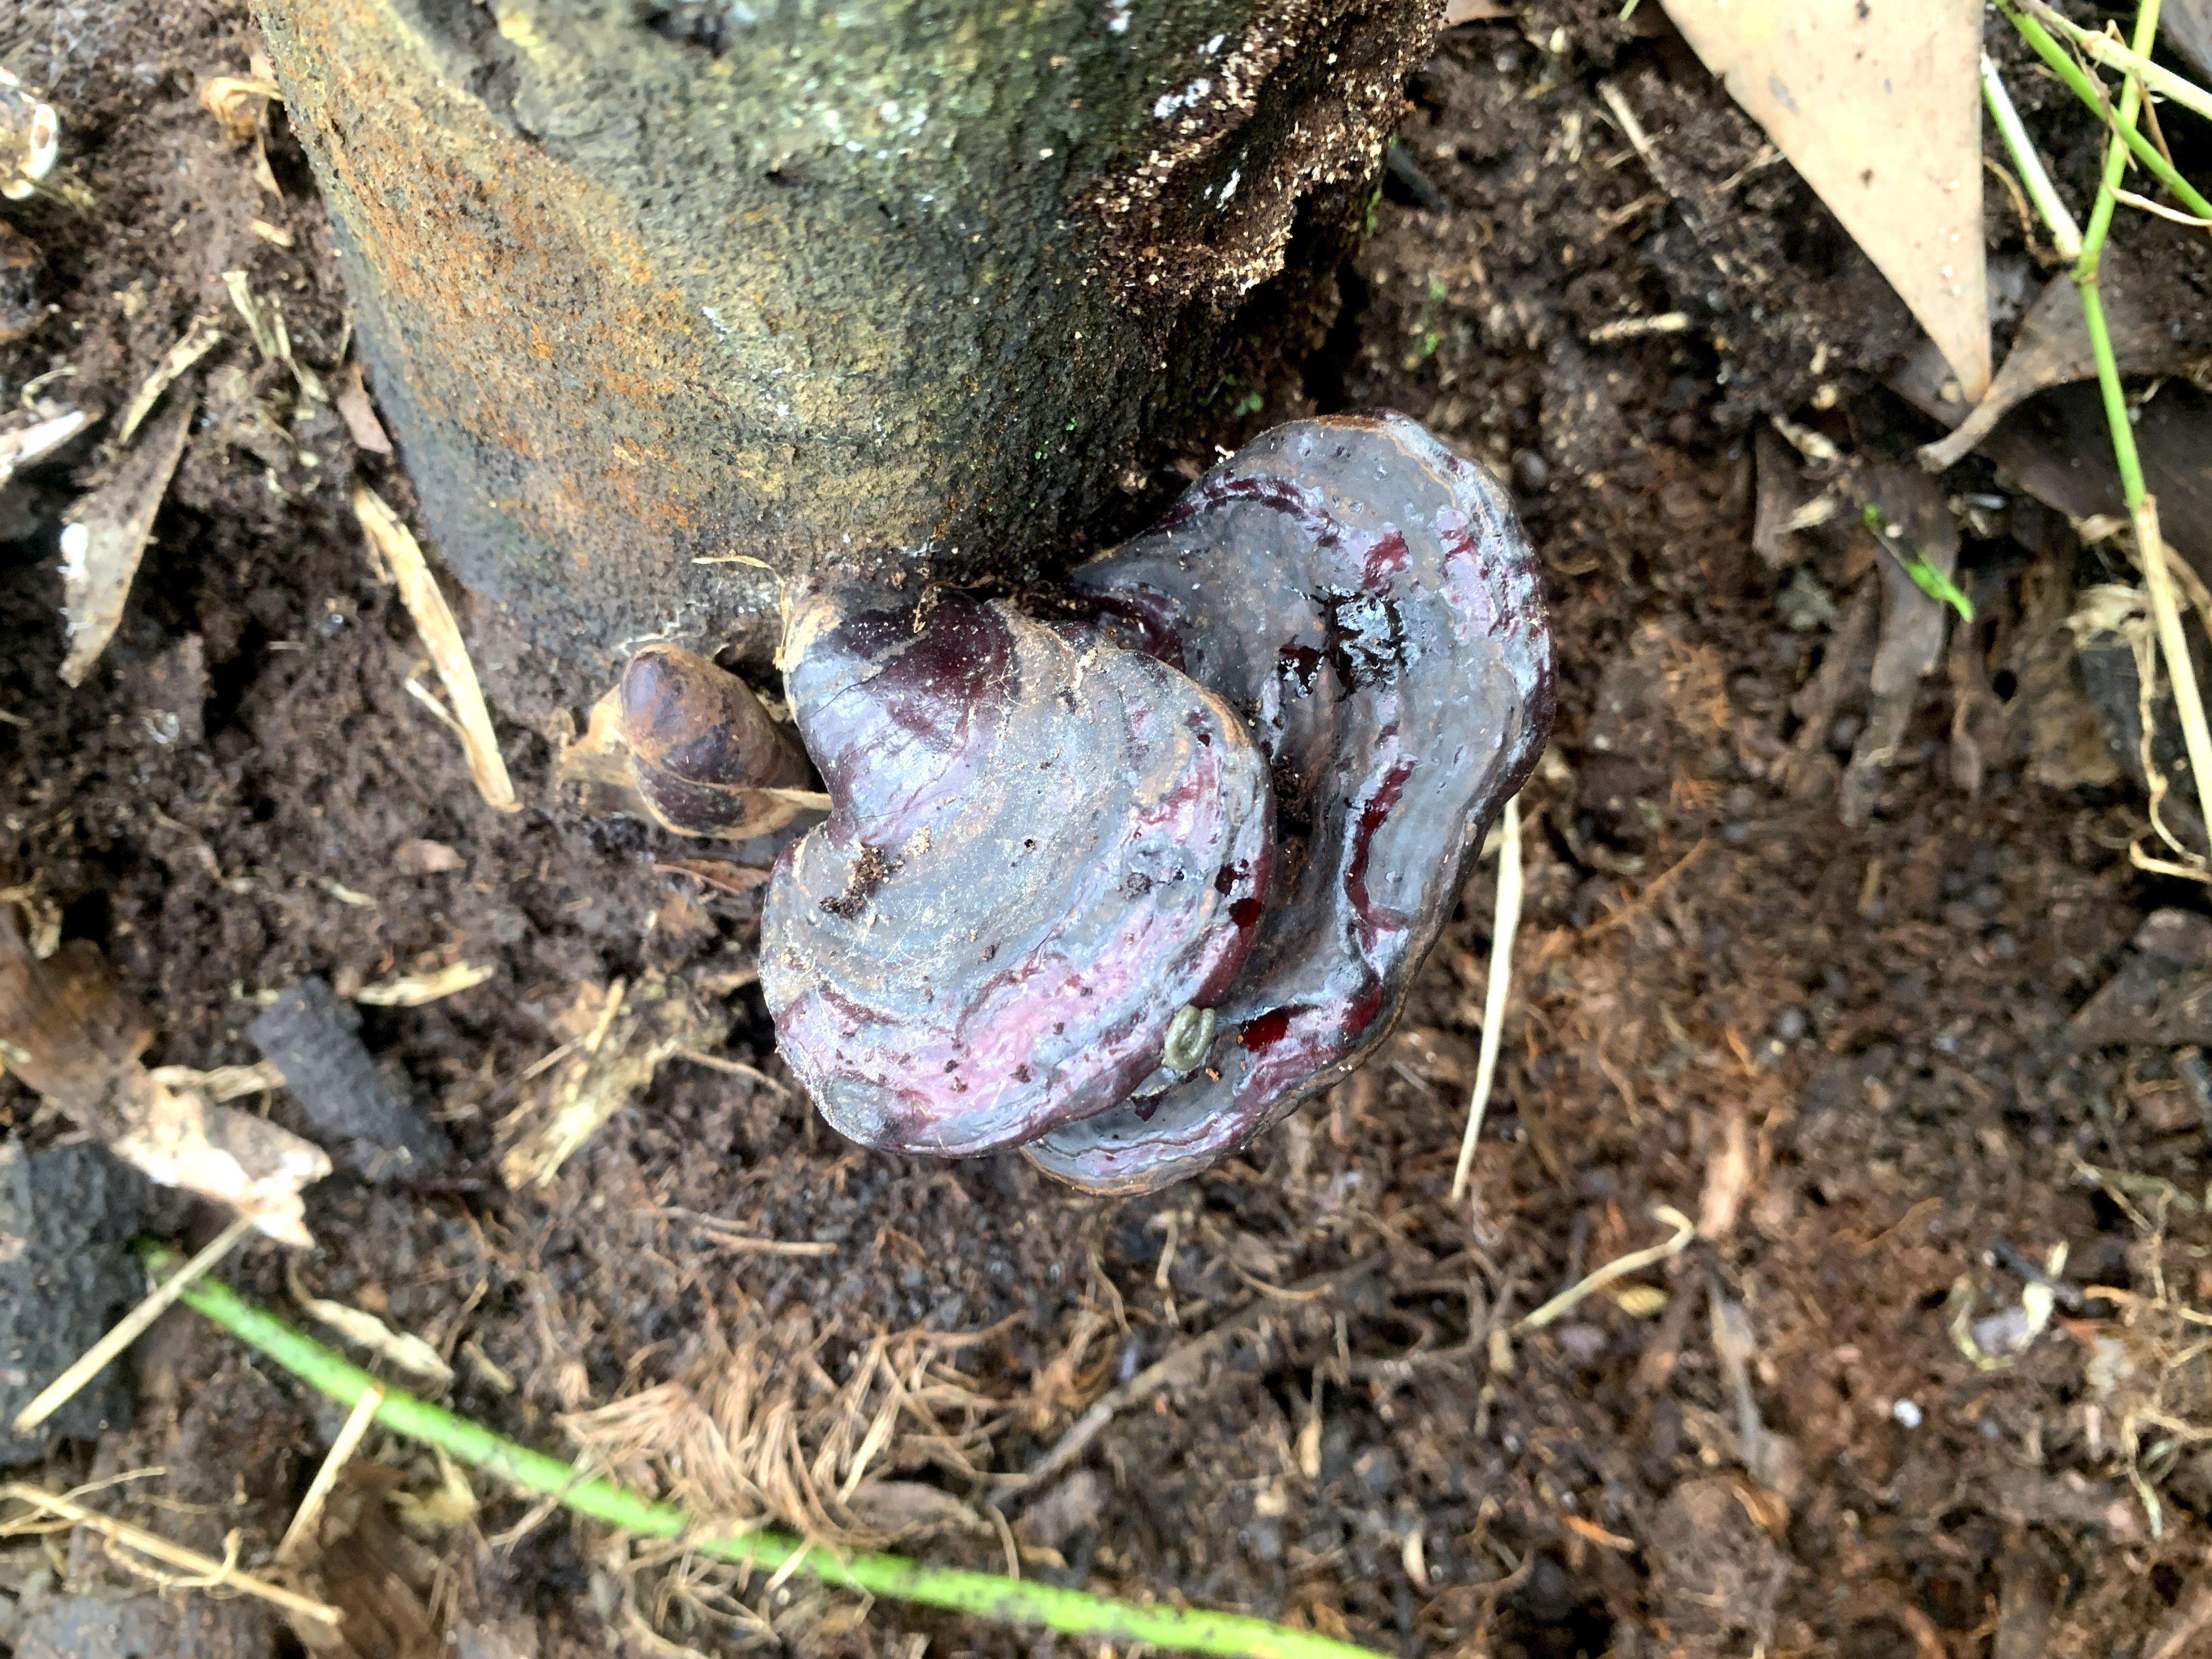Ganoderma - Fruit Body: (1083, 385, 1559, 1208), (733, 563, 1263, 1166)
